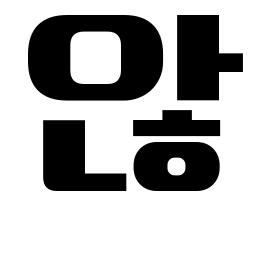Gaji: (170, 44, 233, 84)
